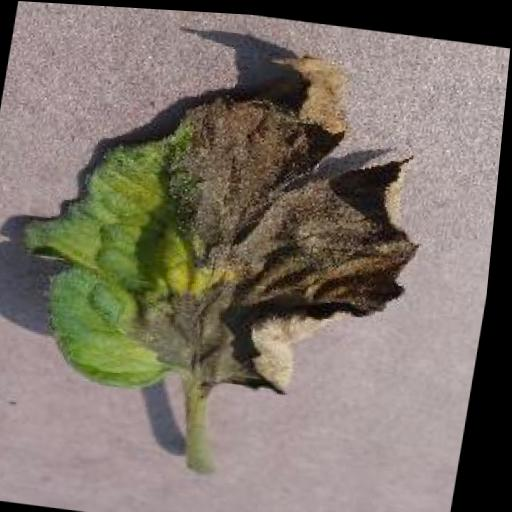Late Blight: (0, 15, 451, 426)
